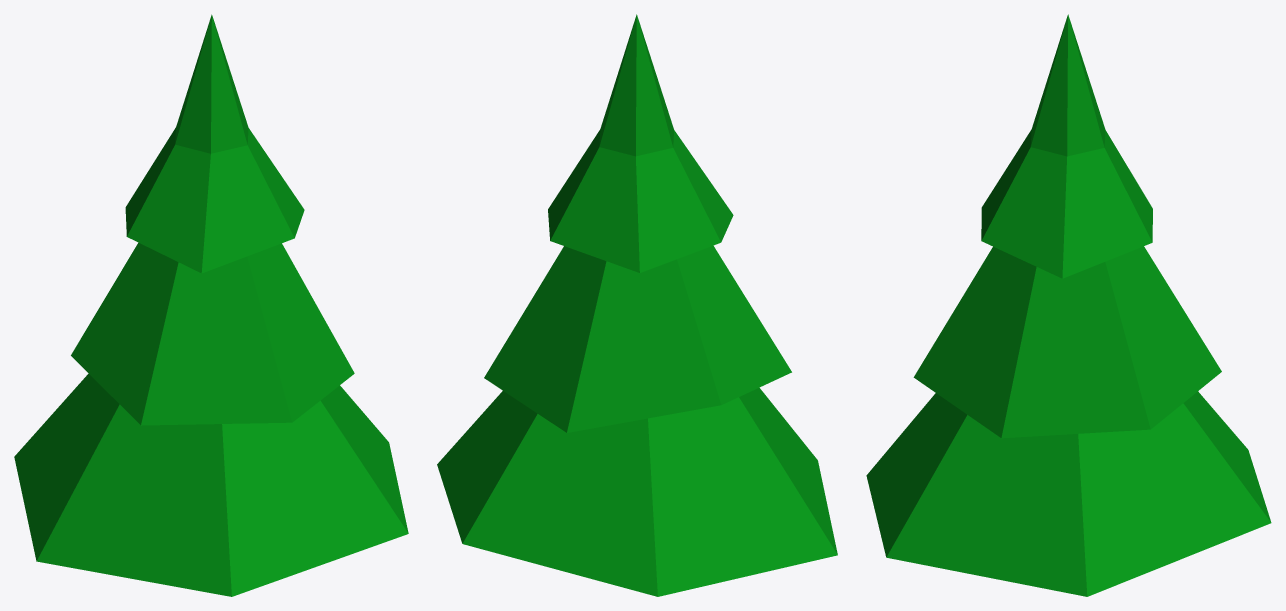
File: tree_pine4.fbx
3 views of the same model, side by side, from view 1: azimuth 30°, elevation 25°; view 2: azimuth 150°, elevation 25°; view 3: azimuth 270°, elevation 25° (orthographic).
Visible parts, largest first — view 1: tree_pine4; view 2: tree_pine4; view 3: tree_pine4.
Boxes of the visible parts, x1,y1,x2,y2 form: tree_pine4: (14,14,408,596); tree_pine4: (437,14,837,596); tree_pine4: (866,14,1271,596).
Size of the model in its own units: 1.94 by 2.61 by 1.79.
